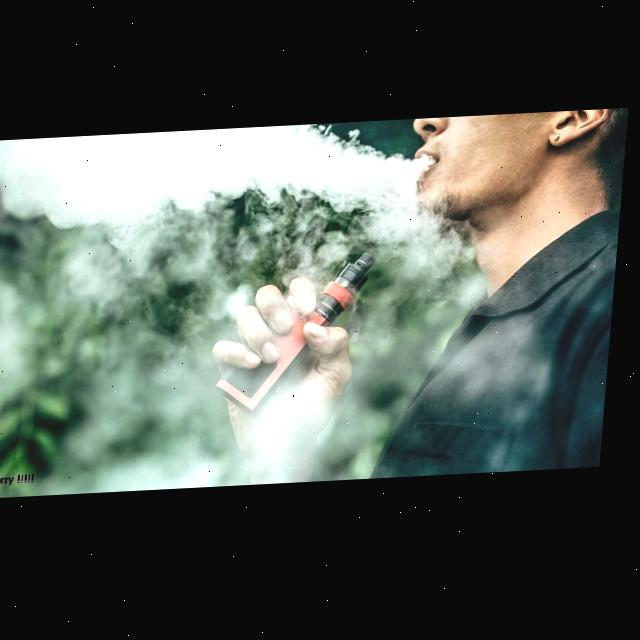vape: (219, 256, 382, 422)
